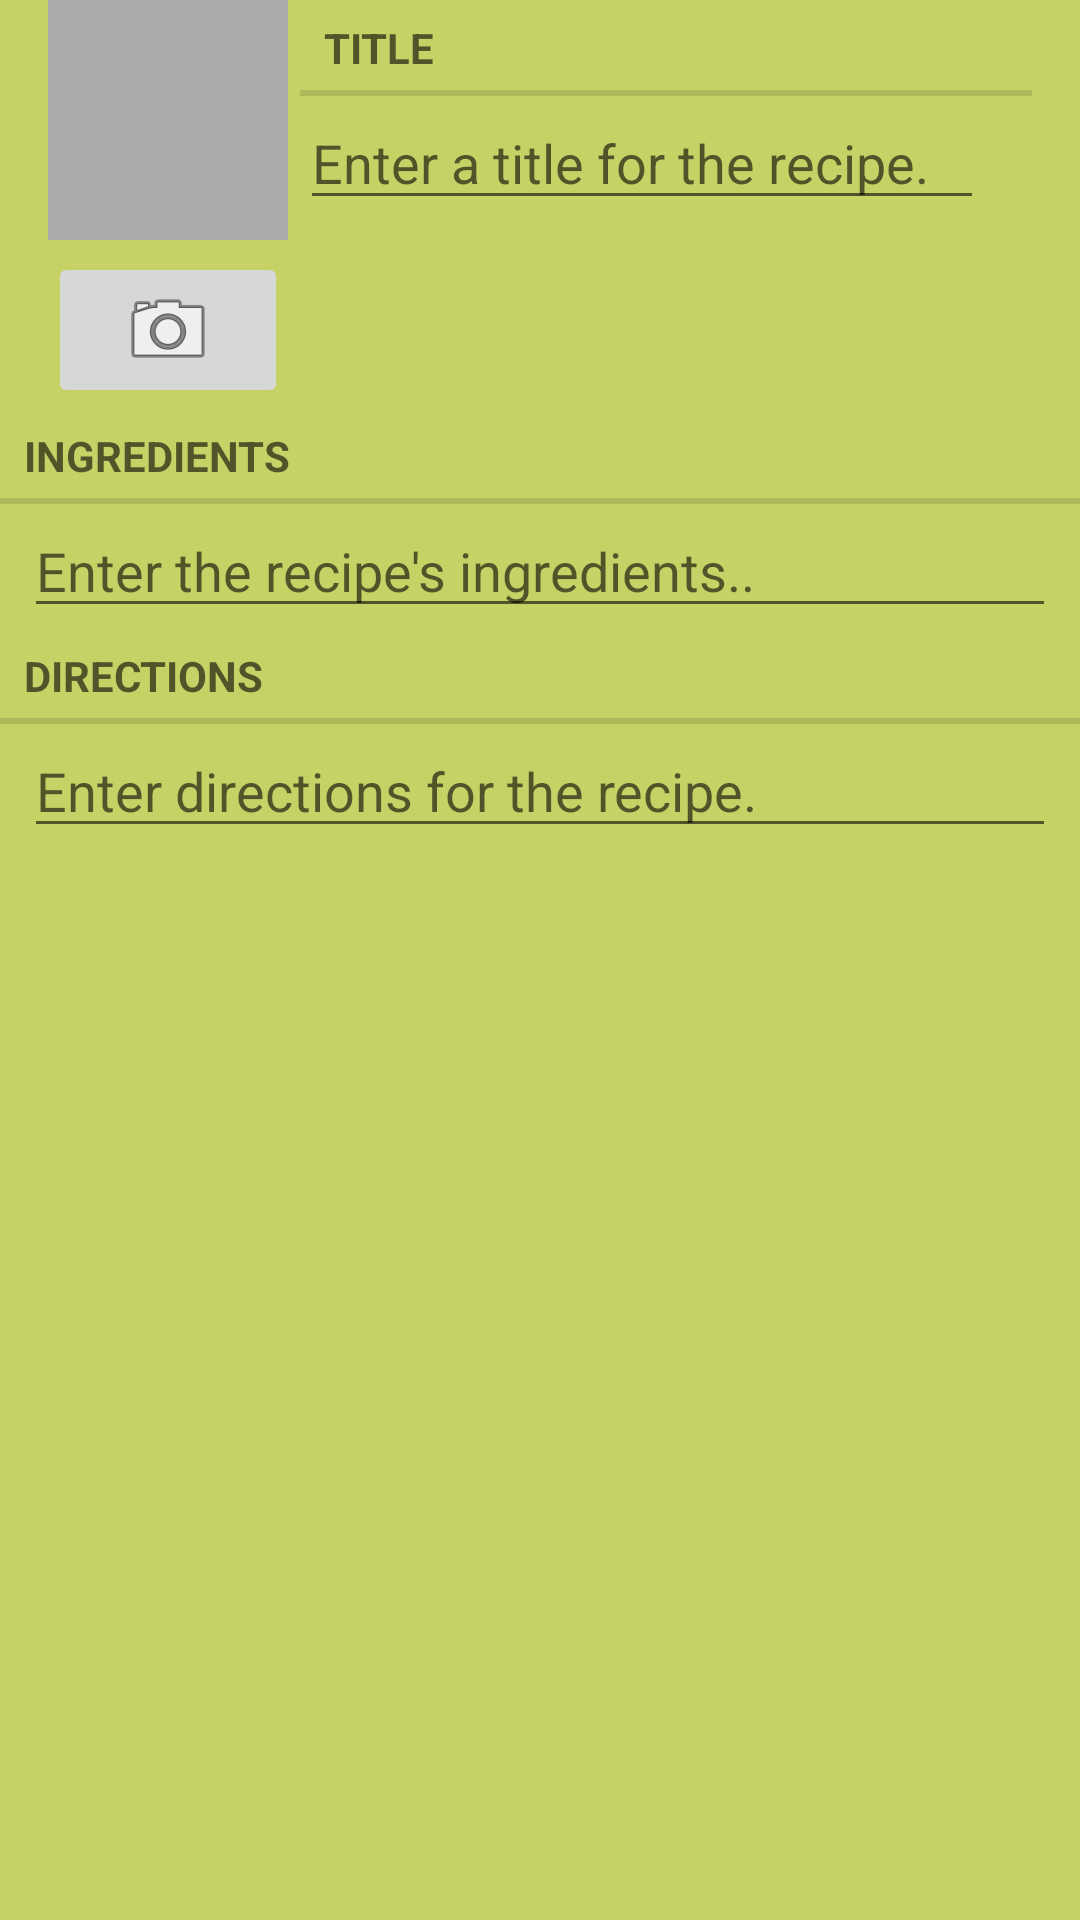

Icons on this 1080×1920 Android screen, each with its box as (x1, y1, x2, y2):
camera: (60, 270, 276, 390)
